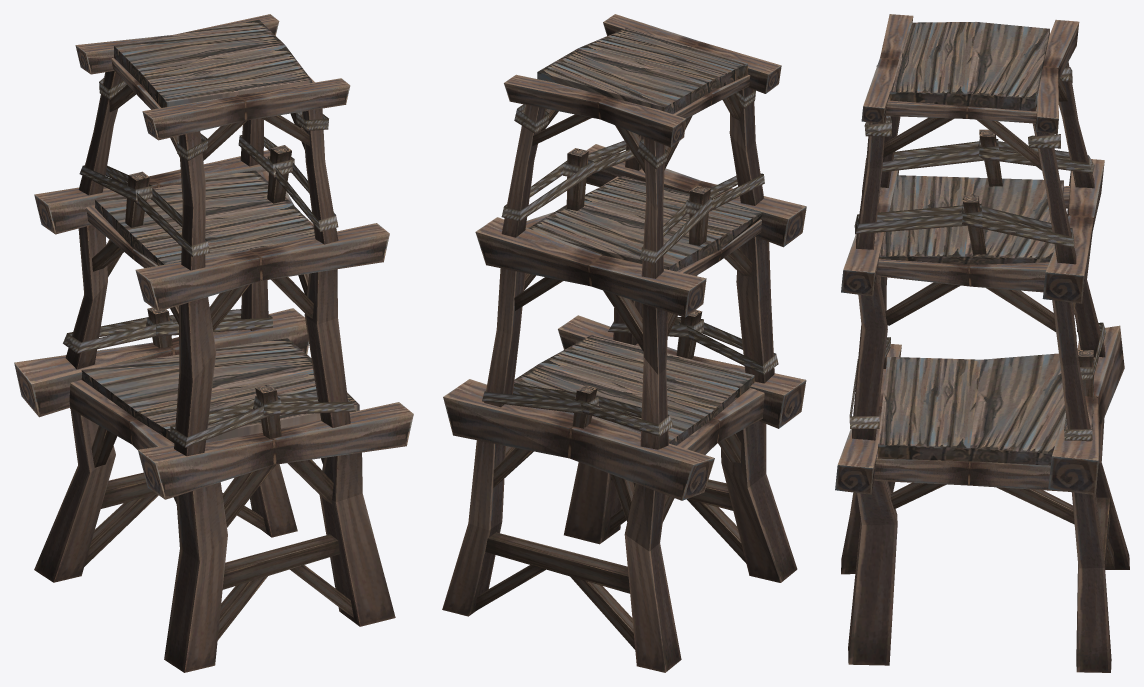
The model's file is mine_tower_01.fbx.
The picture shows the model from 3 angles, left to right: view 1: azimuth 30°, elevation 25°; view 2: azimuth 150°, elevation 25°; view 3: azimuth 270°, elevation 25°; orthographic projection. The views are drawn at different scales.
Visible parts, largest first — view 1: obj1.011; view 2: obj1.011; view 3: obj1.011.
Boxes of the visible parts, x1=… form: obj1.011: x1=14, y1=14, x2=413, y2=672; obj1.011: x1=442, y1=14, x2=806, y2=672; obj1.011: x1=835, y1=14, x2=1129, y2=672.
Bounding box in the file's own units: 4.47 × 8.65 × 4.19.
